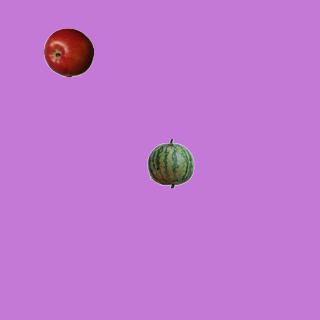Apple Braeburn: (43, 27, 93, 77)
Watermelon: (145, 138, 195, 188)
